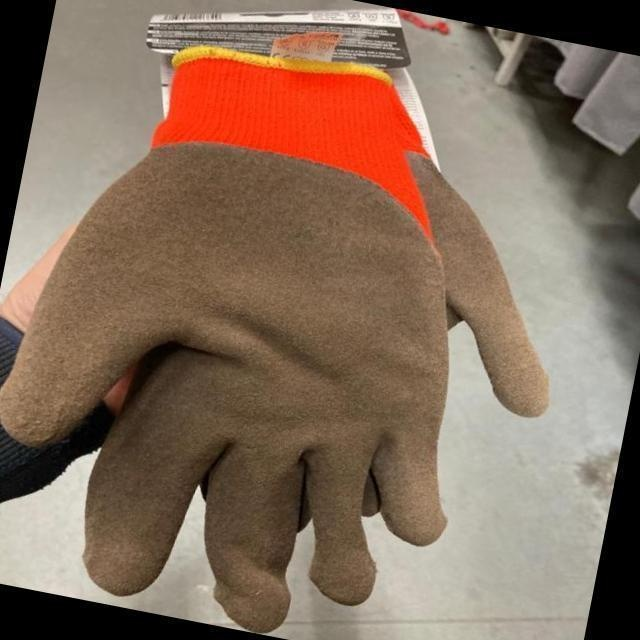Guantes: (35, 39, 551, 621)
